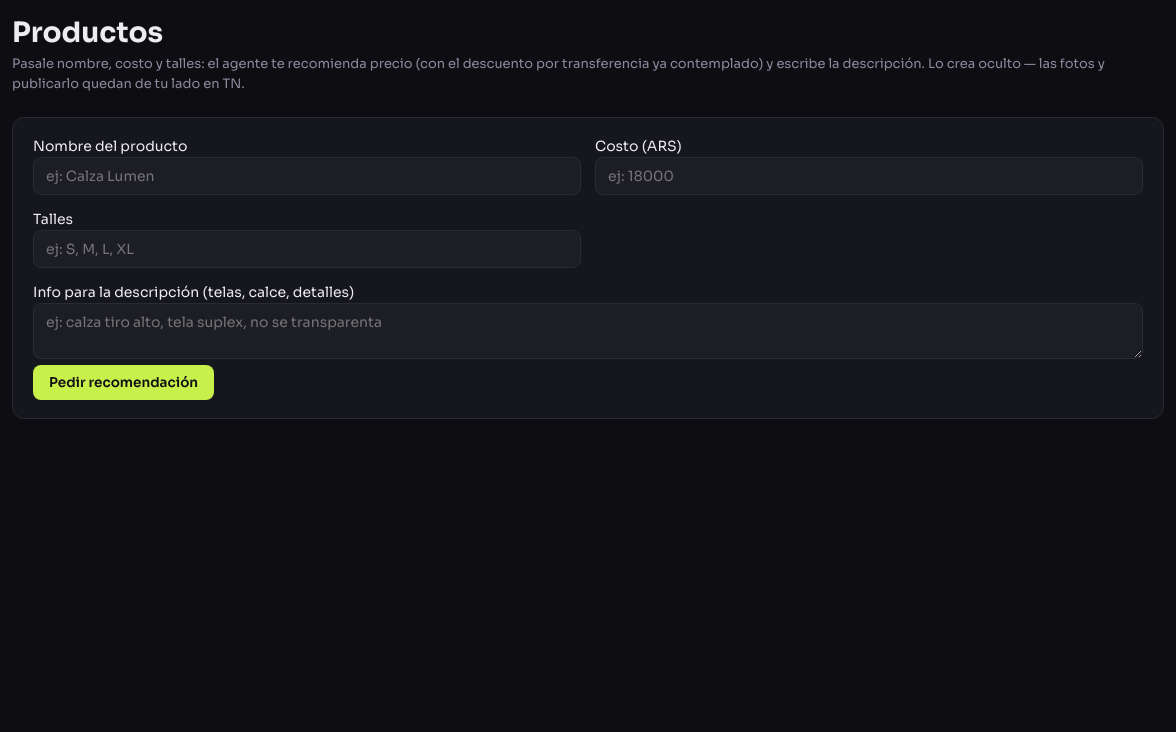
Test: Productos › después de la recomendación se puede seguir la conversación (confirmar)
In the field labelled "Nombre del producto": (307, 176) [33, 157, 581, 195], type "X"
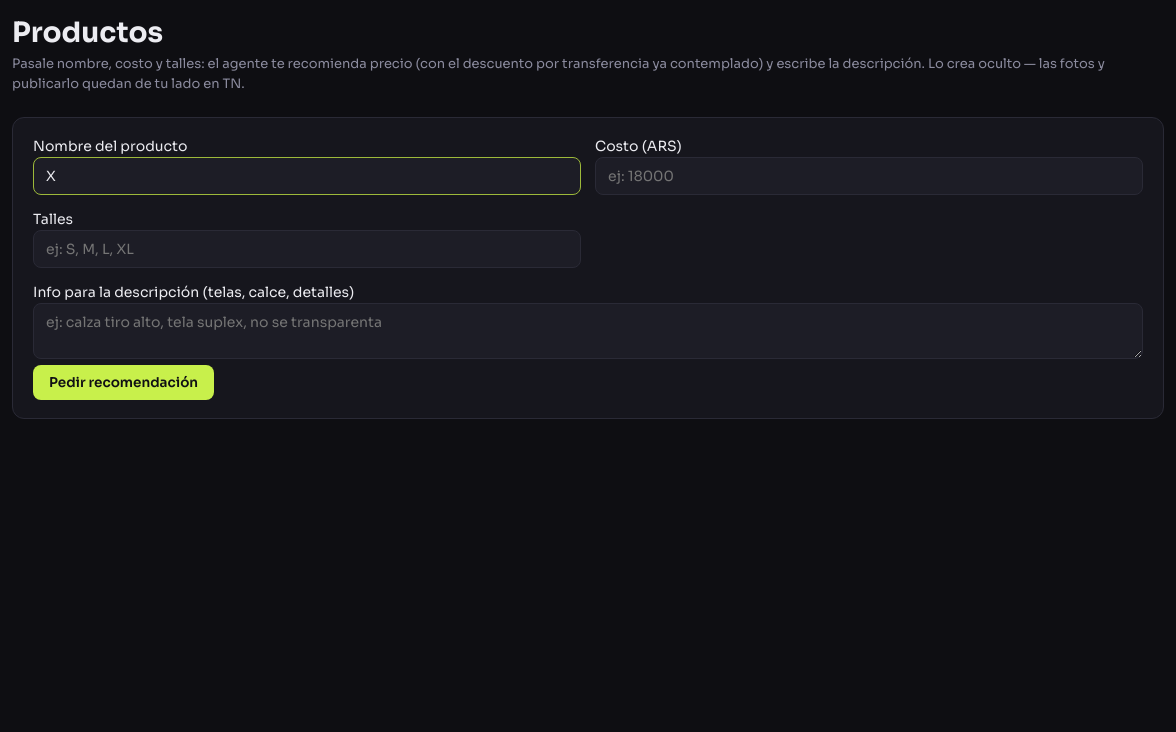
In the number field labelled "Costo (ARS)": (869, 176) [595, 157, 1143, 195], type "1"
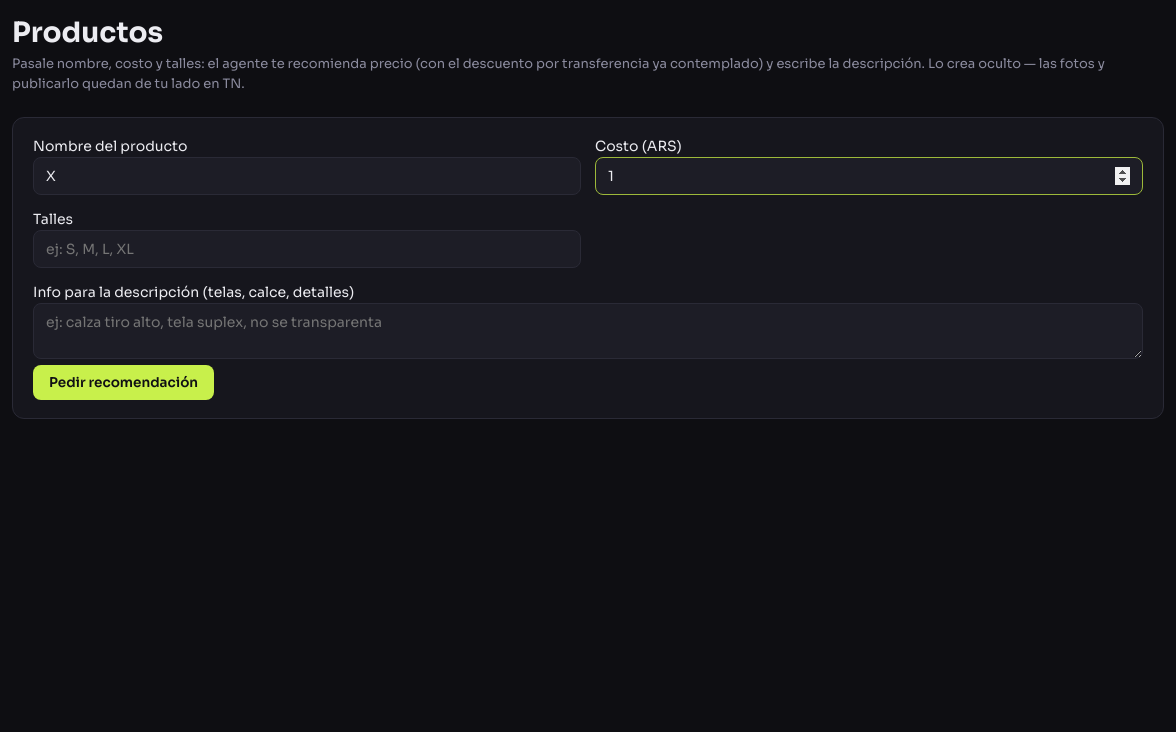
In the field labelled "Talles": (307, 249) [33, 230, 581, 268], type "S"
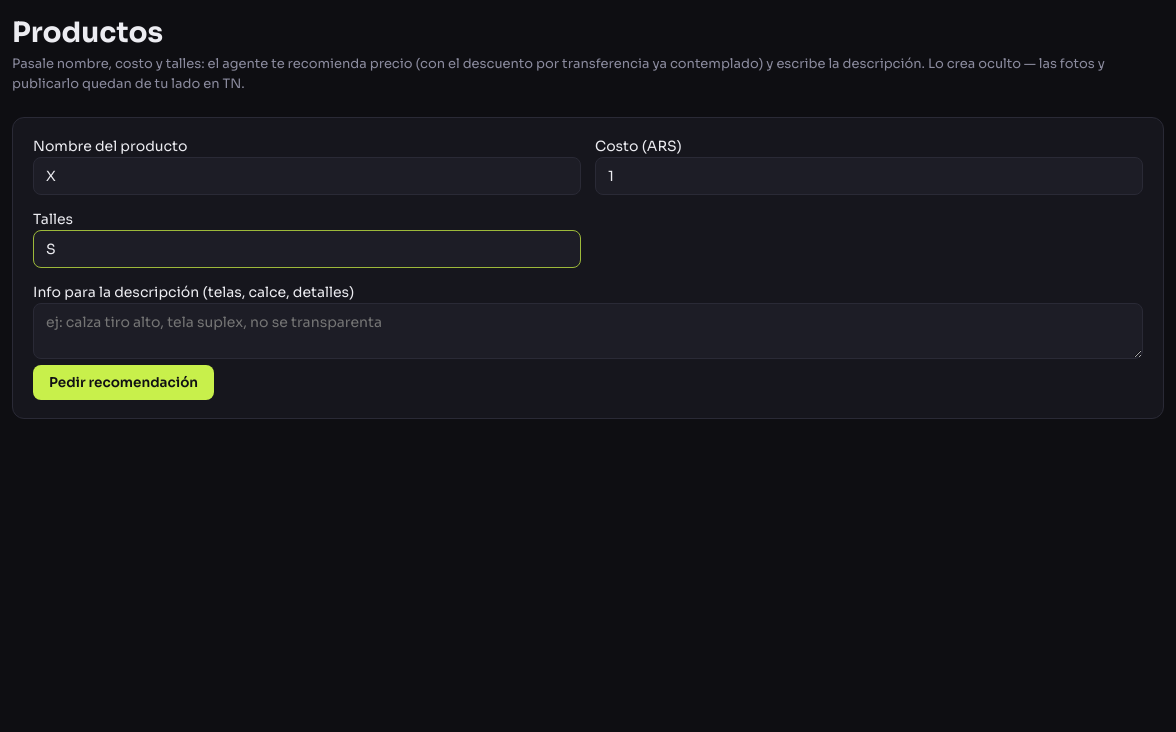
Click the button "Pedir recomendación": (124, 382) [33, 365, 214, 400]
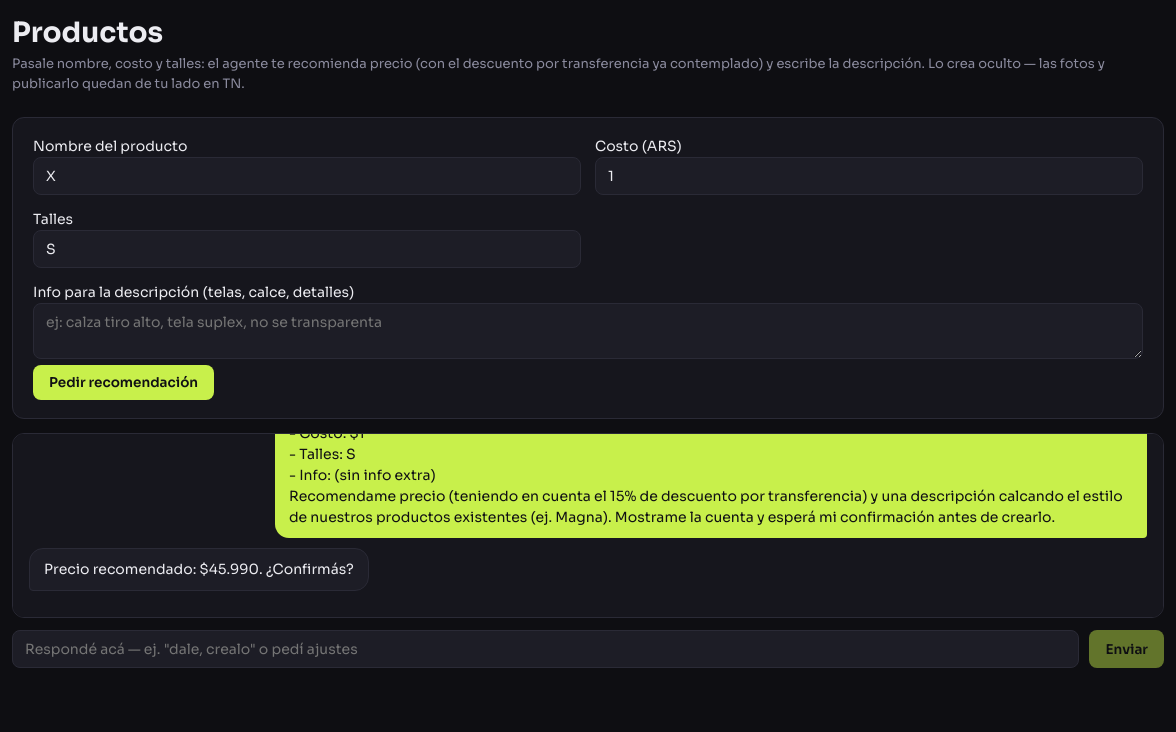
Now the text "Precio recomendado: $45.990. ¿Confirmás?" is shown, box [29, 548, 369, 591]
In the field with placeholder "Respondé acá — ej. \"dale, crealo\" o pedí ajustes": (546, 649) [12, 630, 1079, 668], type "dale, crealo"
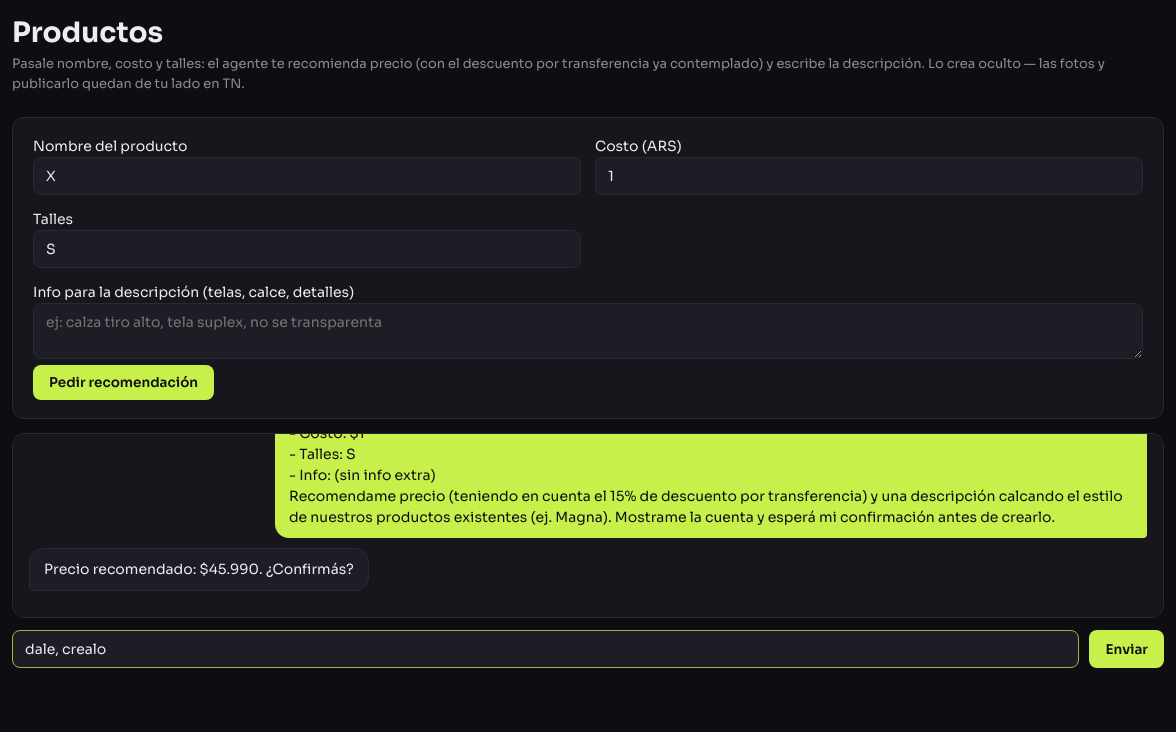
Click the button "Enviar": (1127, 649) [1089, 630, 1164, 668]
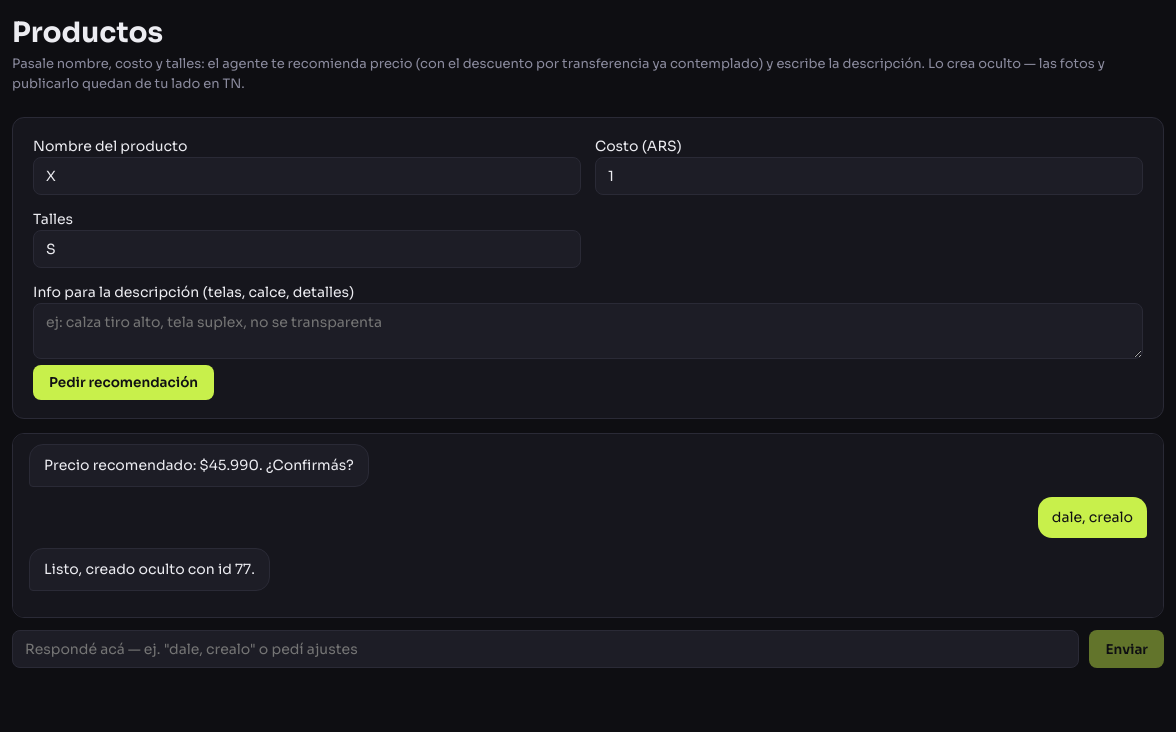
Now the text "Listo, creado oculto con id 77." is shown, box [29, 548, 270, 591]
